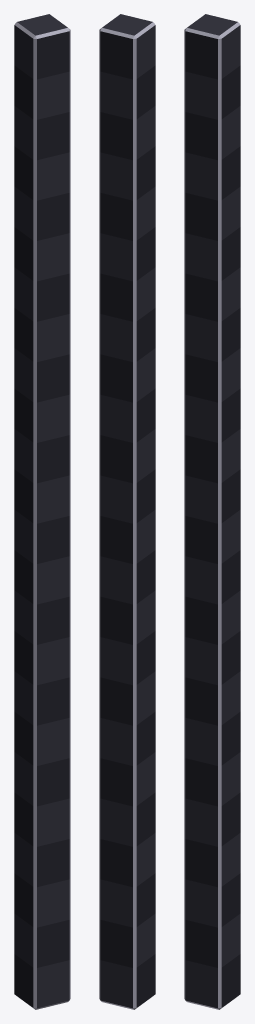
File: PMP-M-Ground-Main-0.32x0.32x8-V1.fbx
3 renders of one model, left to right at view 1: azimuth 30°, elevation 25°; view 2: azimuth 150°, elevation 25°; view 3: azimuth 330°, elevation 25°, orthographic.
Parts seen in each view (by area): view 1: MONO-Terrain-A-0.32x0.32x8; view 2: MONO-Terrain-A-0.32x0.32x8; view 3: MONO-Terrain-A-0.32x0.32x8.
Part boxes in pixels (<box>): MONO-Terrain-A-0.32x0.32x8: <box>14,14,70,1009</box>; MONO-Terrain-A-0.32x0.32x8: <box>99,14,155,1009</box>; MONO-Terrain-A-0.32x0.32x8: <box>184,14,240,1009</box>.
Size of the model in its own units: 32 by 800 by 32.
